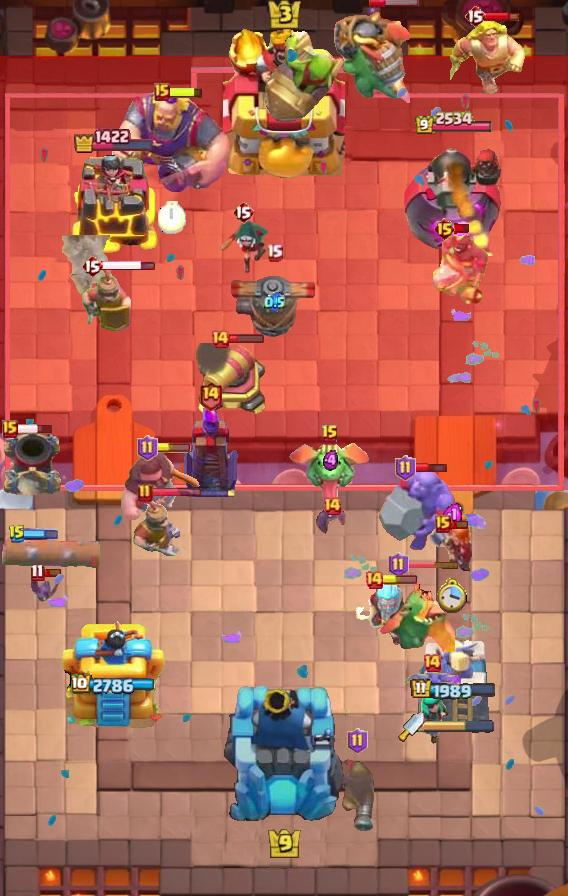archer-queen: (377, 465, 459, 553)
bar: (416, 637, 490, 731)
barbarian: (403, 666, 461, 692)
barbarian-barrel: (25, 574, 65, 604), (316, 506, 348, 536)
bomb-tower: (338, 755, 376, 833)
dark-prince: (229, 255, 319, 343)
earthquake: (82, 264, 132, 332), (132, 492, 180, 556)
electro-spirit: (442, 503, 464, 527), (263, 292, 284, 313), (323, 449, 337, 471)
electro-wizard: (371, 566, 455, 652), (288, 442, 372, 504)
elixir: (437, 575, 469, 612), (158, 202, 186, 235)
emote: (100, 259, 155, 273), (150, 486, 202, 497), (406, 559, 460, 568), (168, 86, 204, 99), (412, 461, 447, 474), (17, 423, 54, 435), (23, 528, 59, 540), (485, 10, 520, 22), (368, 0, 420, 8), (228, 332, 265, 343), (155, 443, 191, 453), (382, 575, 418, 585), (449, 518, 469, 529), (42, 567, 62, 578), (453, 222, 470, 233)
fisherman: (62, 235, 115, 301)
freeze: (424, 233, 490, 309)
goblin-hut: (450, 17, 528, 95)
hog-rider: (429, 523, 477, 573)
ice-spirit-evolution-symbol: (180, 403, 240, 499)
king-tower: (223, 27, 345, 181), (221, 682, 347, 826)
king-tower-bar: (424, 720, 494, 734)
lightning: (112, 90, 233, 196)
minion: (0, 534, 102, 574)
mortar: (354, 576, 420, 648)
musketeer: (0, 431, 64, 497)
night-witch: (333, 0, 417, 114)
queen-tower: (60, 617, 168, 731), (69, 154, 159, 256)
royal-hog: (117, 449, 203, 521)
royal-recruit: (193, 343, 271, 419)
selected: (73, 128, 155, 154), (411, 678, 498, 702), (414, 112, 494, 137), (71, 674, 157, 696)
tesla: (218, 218, 268, 276)
text: (197, 380, 222, 411), (432, 217, 455, 241), (137, 435, 158, 461), (396, 455, 417, 481), (387, 552, 408, 578), (348, 728, 369, 754), (464, 4, 486, 28), (232, 200, 254, 224), (81, 254, 103, 278), (210, 329, 230, 349), (322, 496, 342, 516), (364, 570, 384, 590), (422, 653, 442, 673), (321, 424, 339, 444), (8, 524, 26, 544), (137, 483, 153, 503), (265, 243, 282, 261), (154, 83, 170, 101), (2, 420, 18, 438), (435, 515, 451, 533), (30, 563, 45, 581)
tower-bar: (404, 138, 505, 256)
witch: (408, 692, 452, 746)
x-bow: (264, 31, 344, 125)
